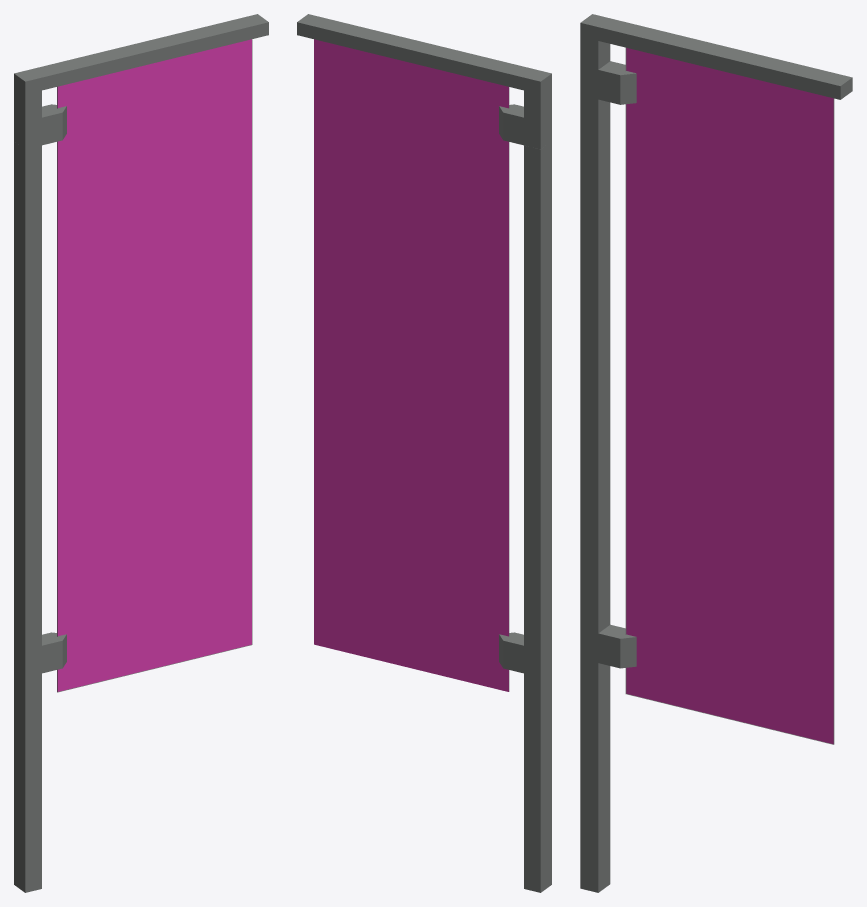
Rendered from BannerUp.dae.
3 renders of one model, left to right at view 1: azimuth 30°, elevation 25°; view 2: azimuth 150°, elevation 25°; view 3: azimuth 330°, elevation 25°, orthographic. The views are drawn at different scales.
Visible parts, largest first — view 1: Plane; view 2: Plane; view 3: Plane.
Part boxes in pixels (<box>): Plane: <box>14,14,268,892</box>; Plane: <box>297,14,551,892</box>; Plane: <box>580,14,852,892</box>.
Bounding box in the file's own units: 2.5 × 0.2 × 7.96.
